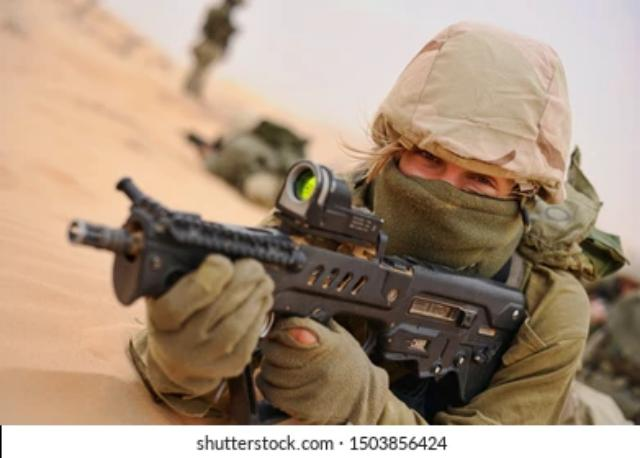other: (160, 64, 630, 412), (172, 0, 236, 94)
